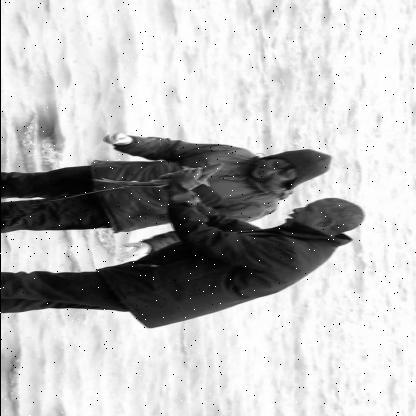fish: (91, 162, 223, 188)
